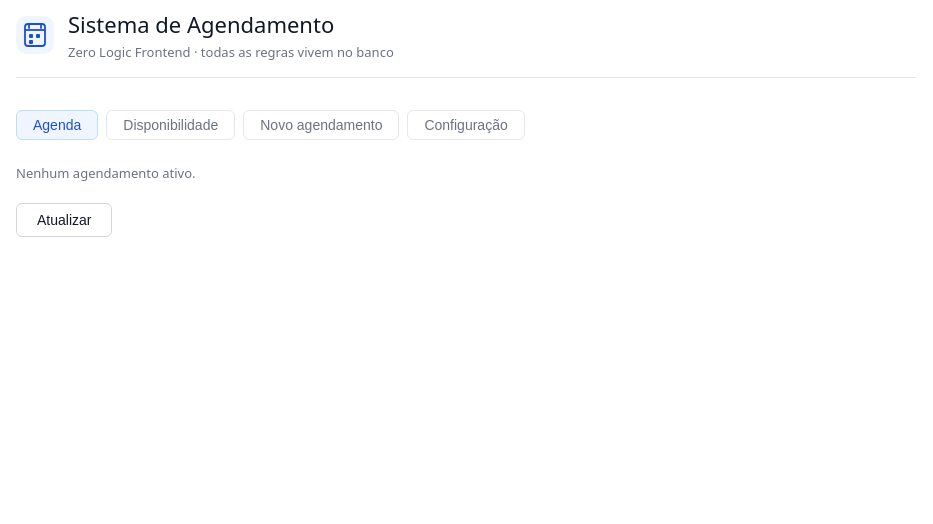
Test: Novo agendamento › exibe mensagem de erro da API
Click the button "Novo agendamento".
click(321, 125)  # box [243,110,399,140]
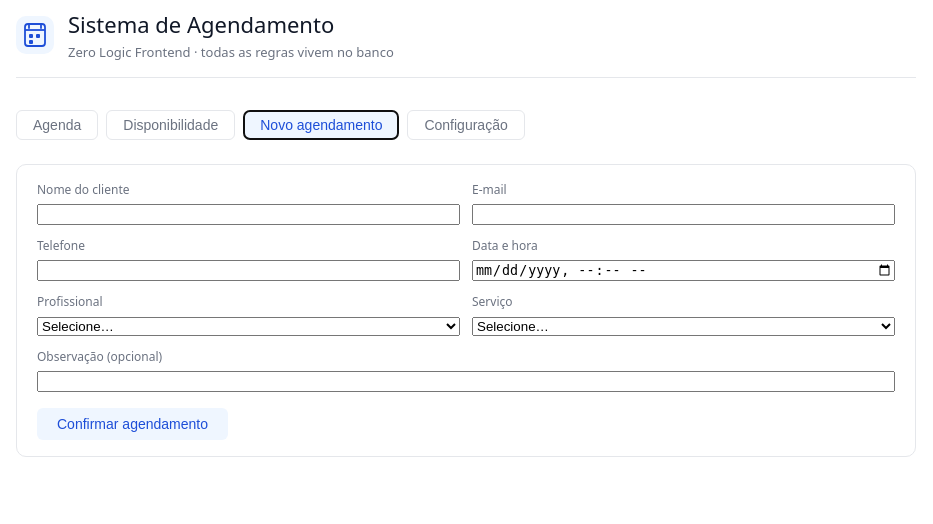
Now the button "Confirmar agendamento" is shown
Click the button "Confirmar agendamento".
click(132, 424)  # box [37,408,228,440]
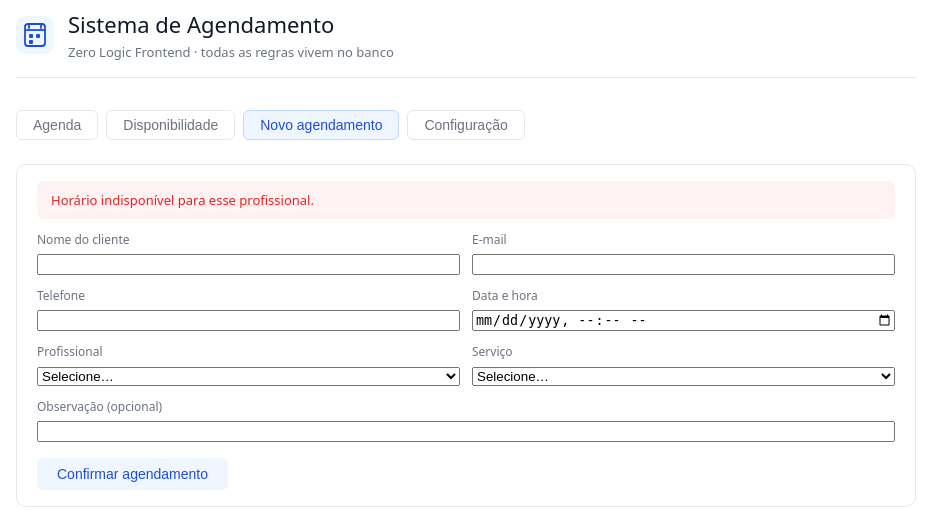
Now the text "Horário indisponível para esse profissional." is shown, box [37,181,895,219]
